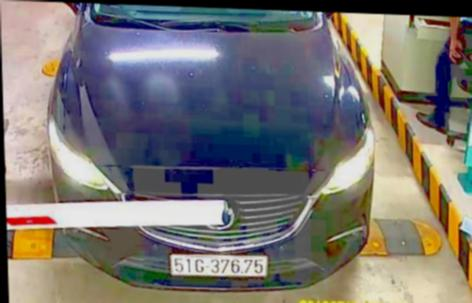License_Plate: (167, 250, 268, 281)
